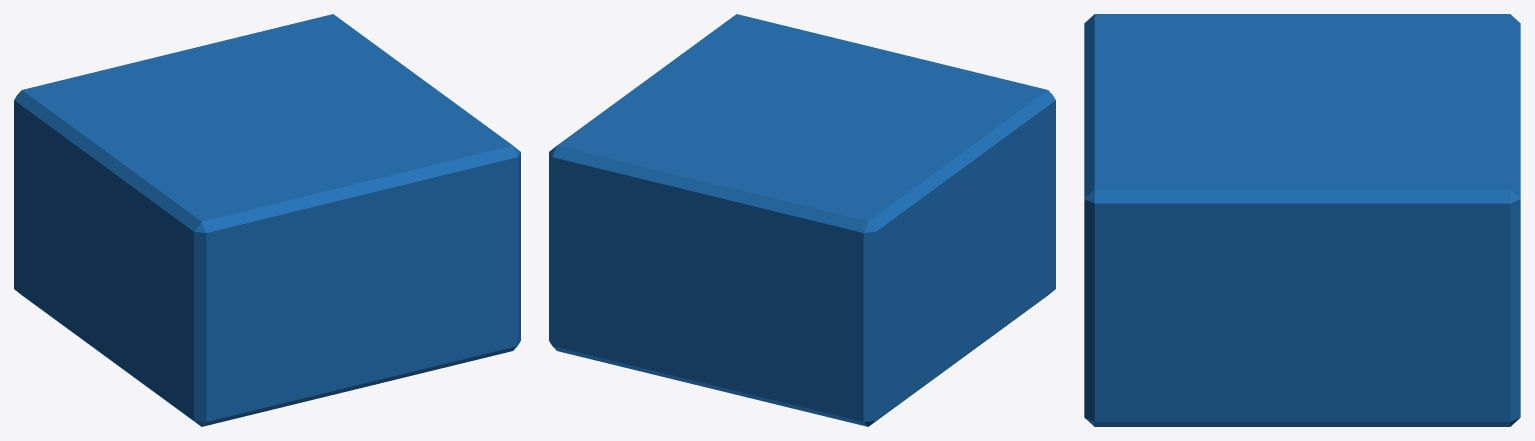
The model's file is raw_material_blue.glb.
3 views of the same model, side by side, from view 1: azimuth 30°, elevation 25°; view 2: azimuth 150°, elevation 25°; view 3: azimuth 270°, elevation 25° (orthographic). The views are drawn at different scales.
Visible parts, largest first — view 1: Item; view 2: Item; view 3: Item.
Part boxes in pixels (x1,y1,x2,y2): Item: (14,14,520,426); Item: (549,14,1055,426); Item: (1084,14,1520,426).
Bounding box in the file's own units: 0.25 × 0.15 × 0.25.
